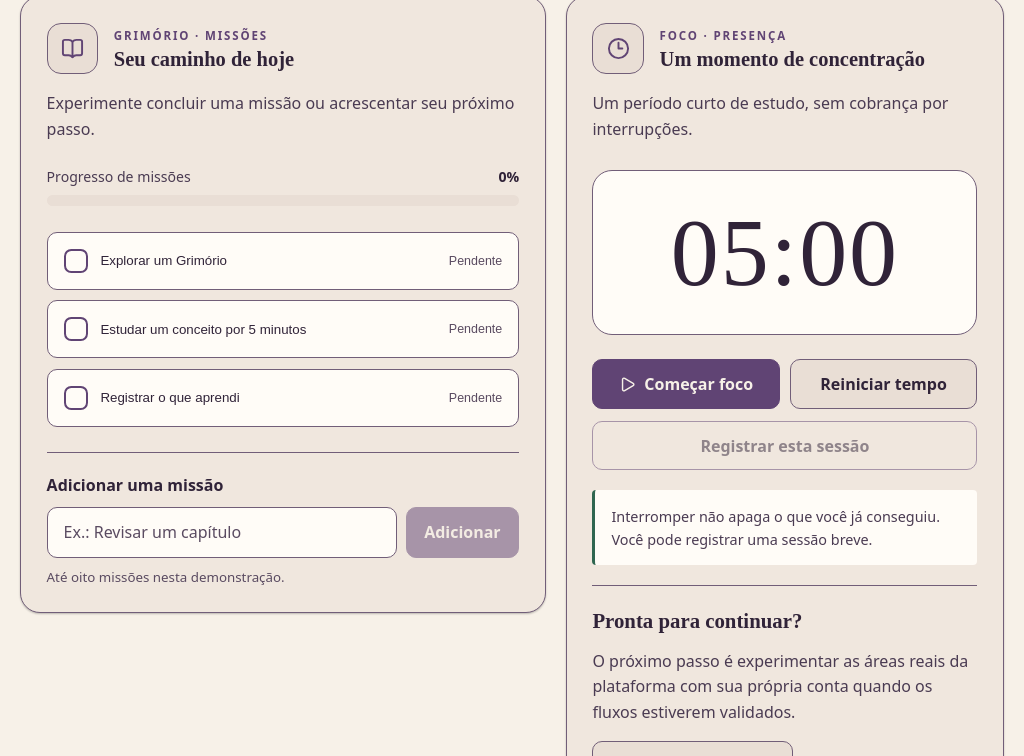
public synthetic Arcana MVP › runs and registers an interruptible focus session
(page scrolled)
Click the button "Começar foco": (686, 384) [592,359,780,409]
Wait 1000 ms
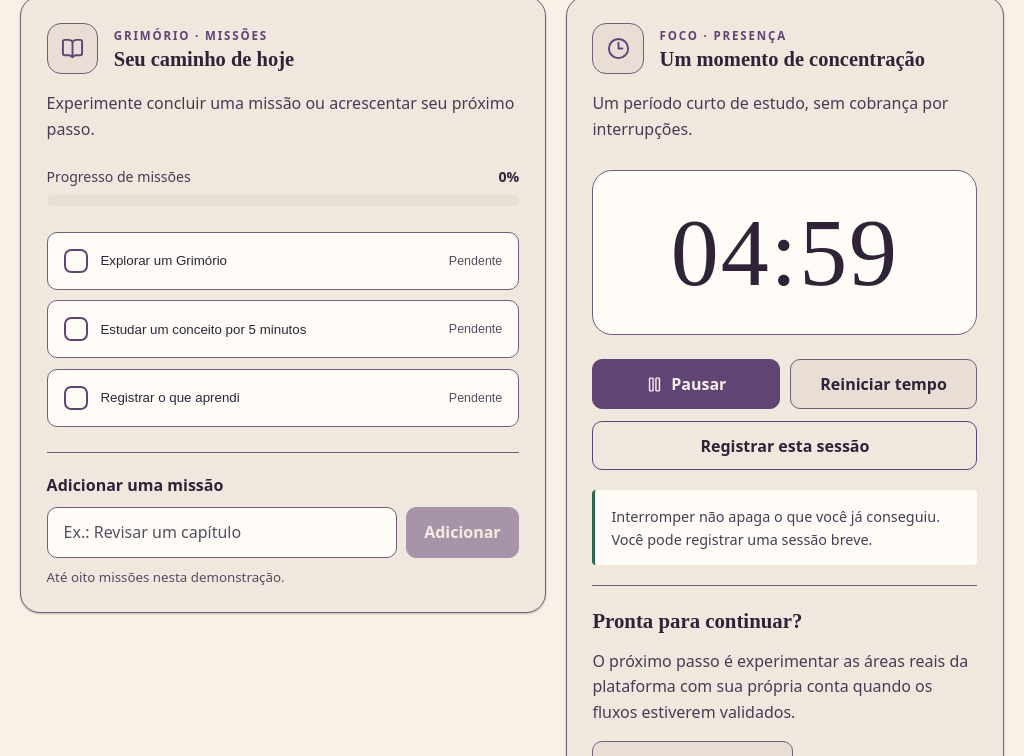
Expected: the text "04:59" is shown, [592,170,977,335]
Click the button "Pausar": (686, 384) [592,359,780,409]
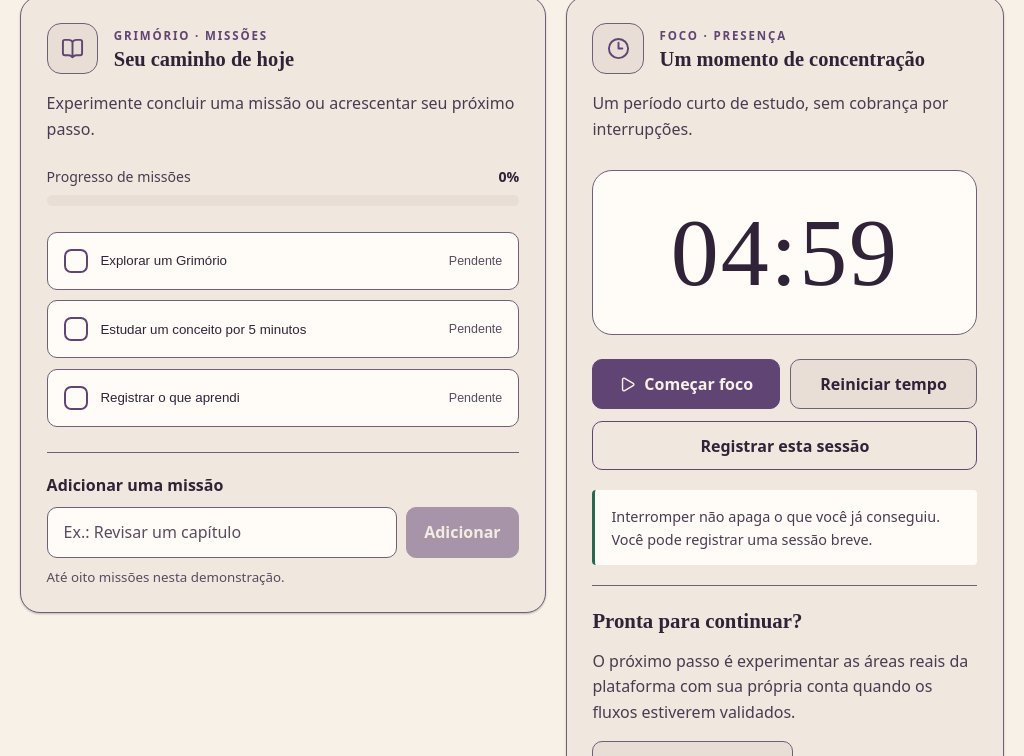
Click the button "Registrar esta sessão": (785, 446) [592,421,977,470]
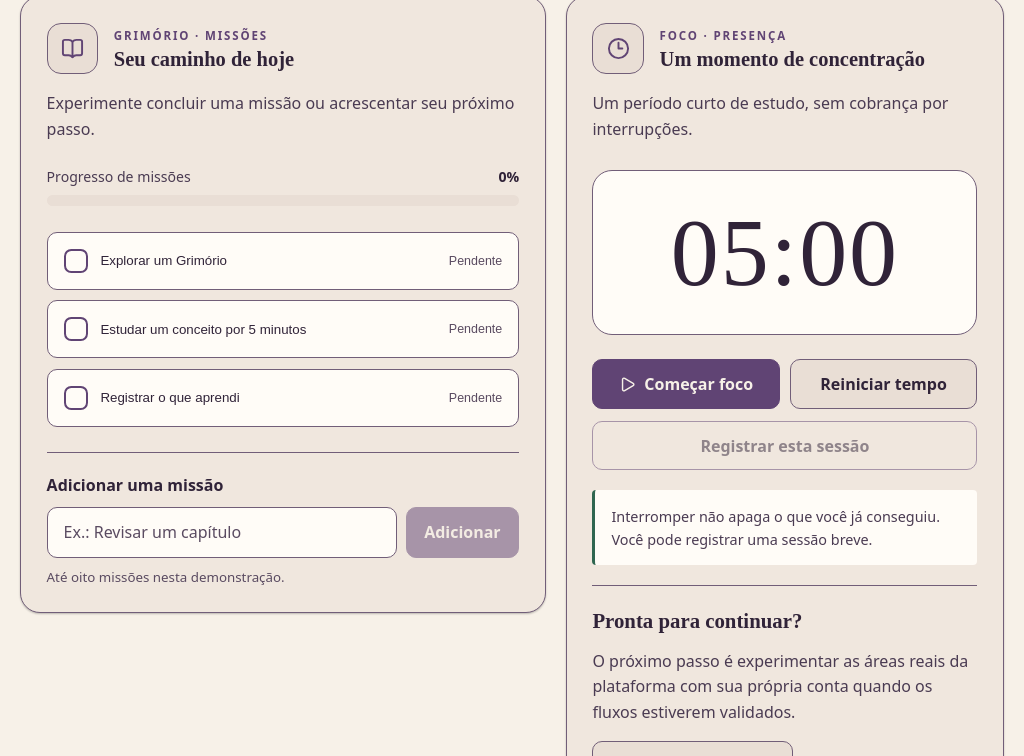
Expected: the text "05:00" is shown, [592,170,977,335]
